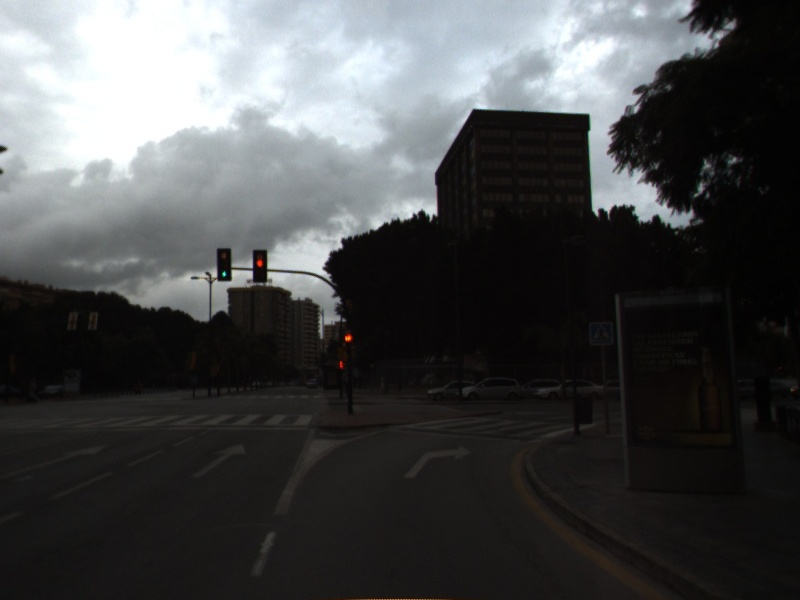RIGHT: (401, 442, 475, 480)
STRAIGHT: (1, 441, 111, 482), (189, 440, 248, 480)
